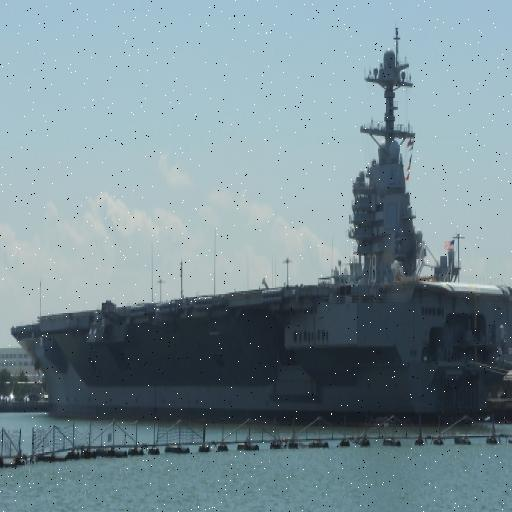Portanaves: (5, 14, 512, 444)
